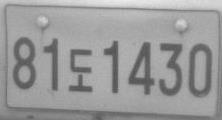0: (187, 42, 213, 98)
1: (100, 39, 126, 94), (40, 37, 65, 92)
3: (158, 42, 183, 96)
4: (127, 41, 155, 95)
8: (11, 35, 37, 90)
도: (68, 48, 93, 92)
